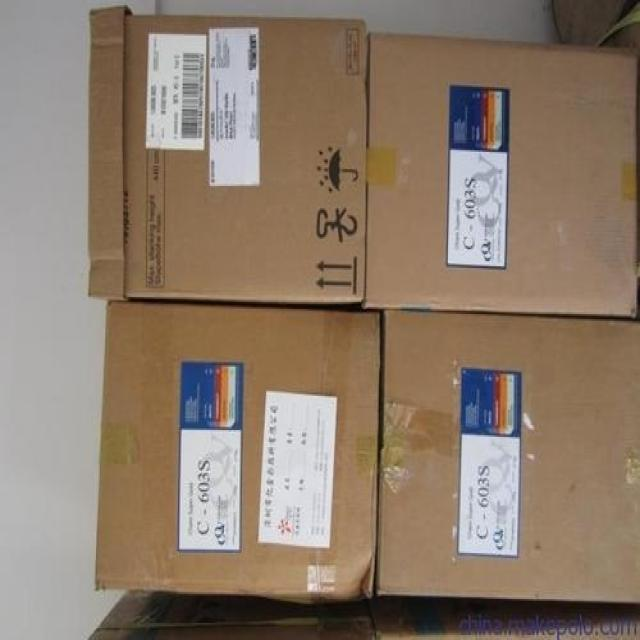box: (93, 302, 382, 602), (86, 6, 366, 305), (372, 310, 639, 604), (366, 31, 639, 317), (89, 594, 376, 638), (374, 597, 639, 638)
